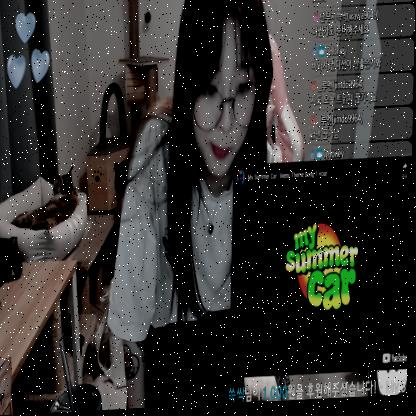donation: (230, 160, 413, 406)
streamer: (107, 0, 280, 411)
